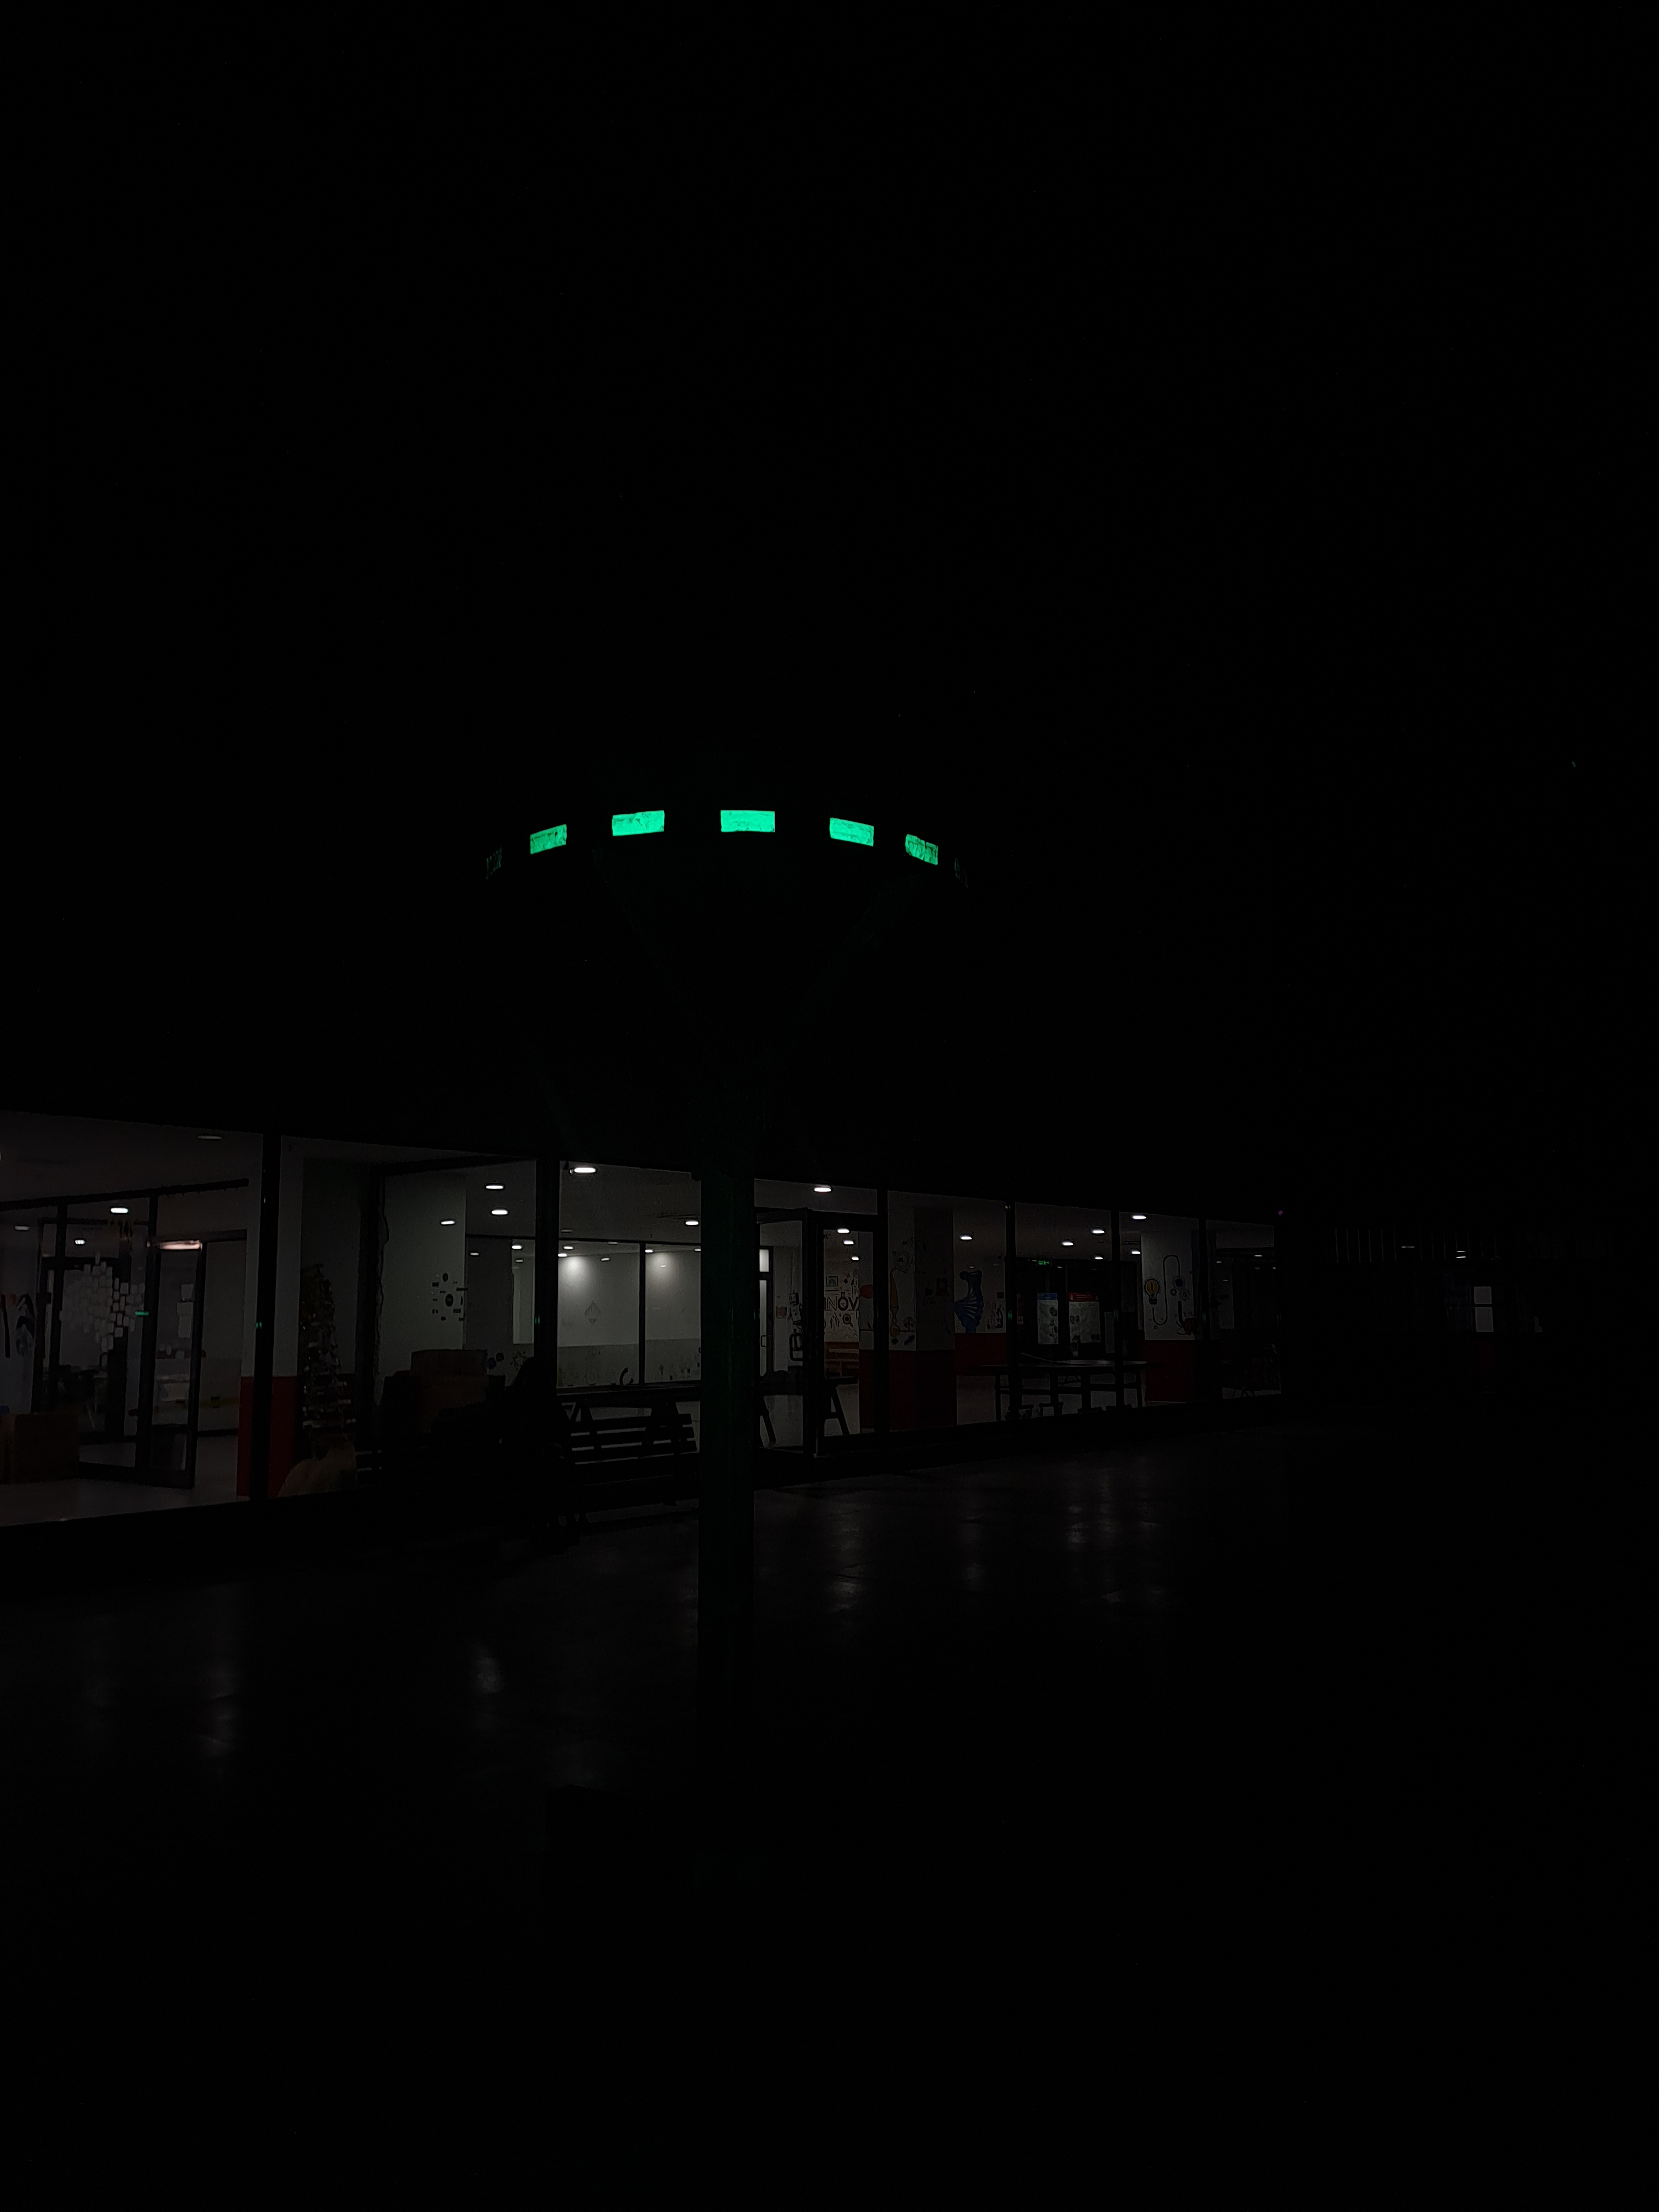hoop: (521, 810, 943, 867)
